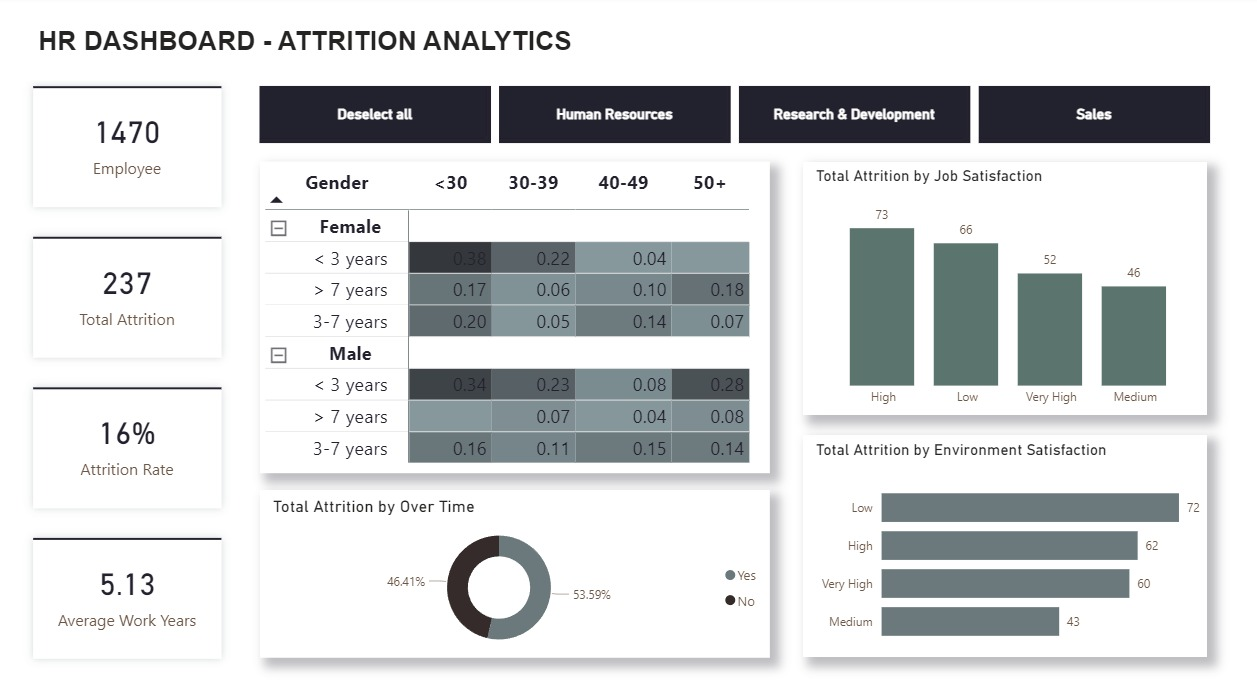

The dashboard page shown, as its layout file describes it:
{"tool":"powerbi","page":{"name":"Page 1","canvas":[1280,720],"ordinal":0},"visuals":[{"type":"cardVisual","fields":{"Data":["WA_Fn-UseC_-HR-Employee-Attrition.Employee","WA_Fn-UseC_-HR-Employee-Attrition.Total Attrition","WA_Fn-UseC_-HR-Employee-Attrition.Attrition Rate","WA_Fn-UseC_-HR-Employee-Attrition.Average Years at Company"]},"box":[24.2,75.7,222.6,613.3],"z":0},{"type":"advancedSlicerVisual","fields":{"Values":["WA_Fn-UseC_-HR-Employee-Attrition.Department"]},"box":[263.7,86.8,972.4,68.2],"z":1000},{"type":"textbox","box":[13.6,25.7,602.7,60.6],"z":2000},{"type":"pivotTable","fields":{"Rows":["WA_Fn-UseC_-HR-Employee-Attrition.Gender","WA_Fn-UseC_-HR-Employee-Attrition.Working Years Groupat this role"],"Values":["WA_Fn-UseC_-HR-Employee-Attrition.Attrition Rate"],"Columns":["WA_Fn-UseC_-HR-Employee-Attrition.Age Group"]},"box":[269.5,168.1,514.8,315],"z":3000},{"type":"clusteredBarChart","title":"Total Attrition by Environment Satisfaction","fields":{"Category":["WA_Fn-UseC_-HR-Employee-Attrition.Env_Satisfaction_Group"],"Y":["WA_Fn-UseC_-HR-Employee-Attrition.Total Attrition"]},"box":[817.3,443.6,407.9,224.9],"z":4000},{"type":"clusteredColumnChart","title":"Total Attrition by Job Satisfaction","fields":{"Category":["WA_Fn-UseC_-HR-Employee-Attrition.Job Satisfaction Group"],"Y":["WA_Fn-UseC_-HR-Employee-Attrition.Total Attrition"]},"box":[817.3,167.5,407.9,255.9],"z":5000},{"type":"donutChart","title":"Total Attrition by Over Time","fields":{"Category":["WA_Fn-UseC_-HR-Employee-Attrition.OverTime"],"Y":["WA_Fn-UseC_-HR-Employee-Attrition.Total Attrition"]},"box":[269.5,499.7,514.8,169.6],"z":6000}]}

Visuals, with their boxes in screenshot pixels (x1, y1, x2, y2), scaled from the page's 1280x720 canvas onto the 1257x698 screenshot:
cardVisual - WA_Fn-UseC_-HR-Employee-Attrition.Employee x WA_Fn-UseC_-HR-Employee-Attrition.Total Attrition: 24/73/242/668
advancedSlicerVisual - WA_Fn-UseC_-HR-Employee-Attrition.Department: 259/84/1214/150
textbox: 13/25/605/84
pivotTable - WA_Fn-UseC_-HR-Employee-Attrition.Gender x WA_Fn-UseC_-HR-Employee-Attrition.Working Years Groupat this role: 265/163/770/468
"Total Attrition by Environment Satisfaction" clusteredBarChart: 803/430/1203/648
"Total Attrition by Job Satisfaction" clusteredColumnChart: 803/162/1203/410
"Total Attrition by Over Time" donutChart: 265/484/770/649
